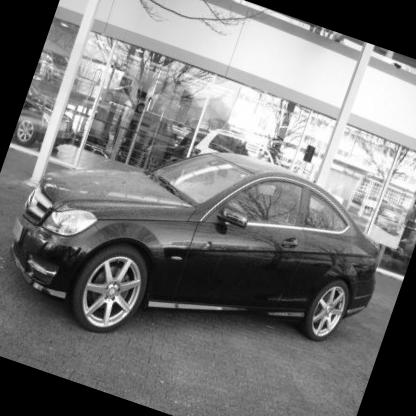car: (1, 66, 416, 415)
